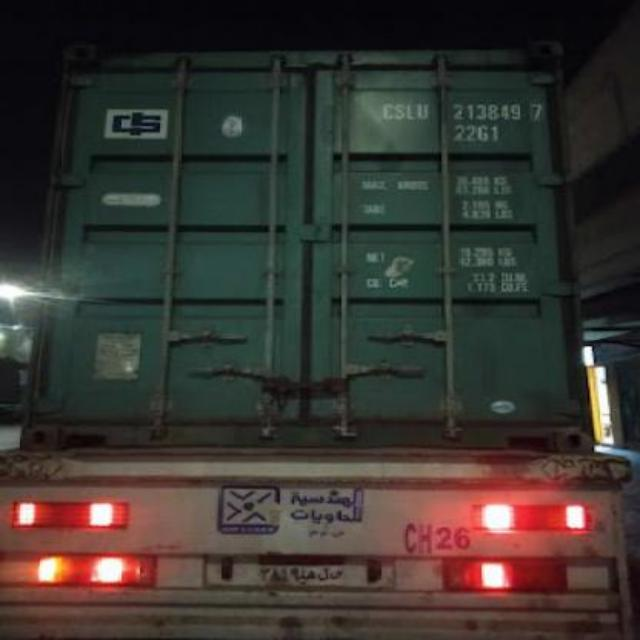1: (464, 95, 476, 119)
2: (451, 95, 464, 121)
3: (474, 97, 486, 123)
4: (496, 96, 509, 122)
7: (528, 99, 546, 123)
8: (486, 98, 498, 120)
9: (510, 98, 522, 124)
C: (381, 99, 394, 123)
L: (404, 99, 414, 123)
S: (394, 96, 404, 122)
U: (416, 96, 428, 124)
